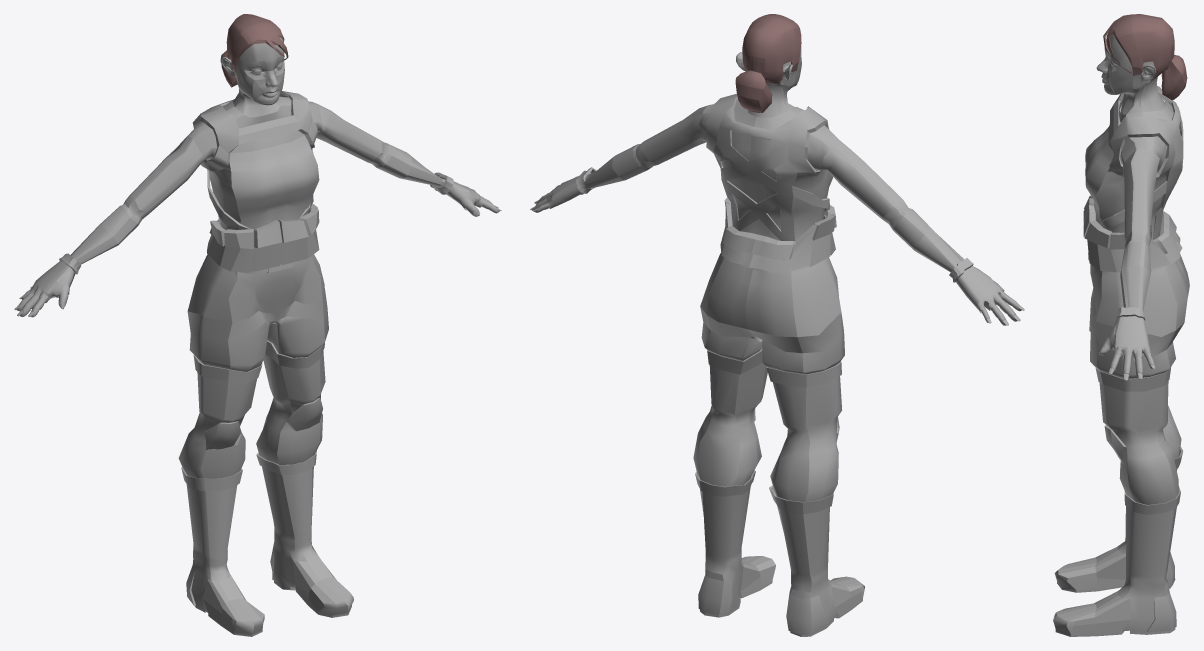
Rendered from SM_Valerie08.fbx.
The picture shows the model from 3 angles, left to right: view 1: azimuth 30°, elevation 25°; view 2: azimuth 150°, elevation 25°; view 3: azimuth 270°, elevation 25°; orthographic projection. The views are drawn at different scales.
Parts seen in each view (by area): view 1: Trousers2, SM_Valerie1, Vest2, SM_Shirt, Shoe01, Shoe02, Clove_02, Clove01; view 2: Trousers2, SM_Valerie1, Vest2, Shoe02, Shoe01, SM_Shirt, Clove_02, Clove01; view 3: Trousers2, SM_Valerie1, Shoe01, Vest2, SM_Shirt, Shoe02, Clove01.
Part boxes in pixels (x1=…): Trousers2: x1=178, y1=254, x2=328, y2=478; SM_Valerie1: x1=14, y1=14, x2=501, y2=317; Vest2: x1=192, y1=91, x2=319, y2=271; SM_Shirt: x1=194, y1=96, x2=319, y2=230; Shoe01: x1=256, y1=450, x2=353, y2=617; Shoe02: x1=181, y1=467, x2=264, y2=636; Clove_02: x1=30, y1=253, x2=80, y2=302; Clove01: x1=430, y1=172, x2=484, y2=210; Trousers2: x1=693, y1=252, x2=844, y2=501; SM_Valerie1: x1=530, y1=14, x2=1024, y2=325; Vest2: x1=706, y1=93, x2=836, y2=271; Shoe02: x1=769, y1=485, x2=864, y2=636; Shoe01: x1=695, y1=470, x2=775, y2=617; SM_Shirt: x1=722, y1=99, x2=833, y2=240; Clove_02: x1=949, y1=258, x2=1005, y2=313; Clove01: x1=546, y1=167, x2=596, y2=208; Trousers2: x1=1088, y1=253, x2=1189, y2=504; SM_Valerie1: x1=1096, y1=14, x2=1187, y2=380; Shoe01: x1=1053, y1=487, x2=1180, y2=636; Vest2: x1=1083, y1=86, x2=1183, y2=272; SM_Shirt: x1=1085, y1=94, x2=1180, y2=240; Shoe02: x1=1054, y1=447, x2=1182, y2=592; Clove01: x1=1106, y1=307, x2=1151, y2=360.
Size of the model in its own units: 1.53 by 1.78 by 0.3733.
